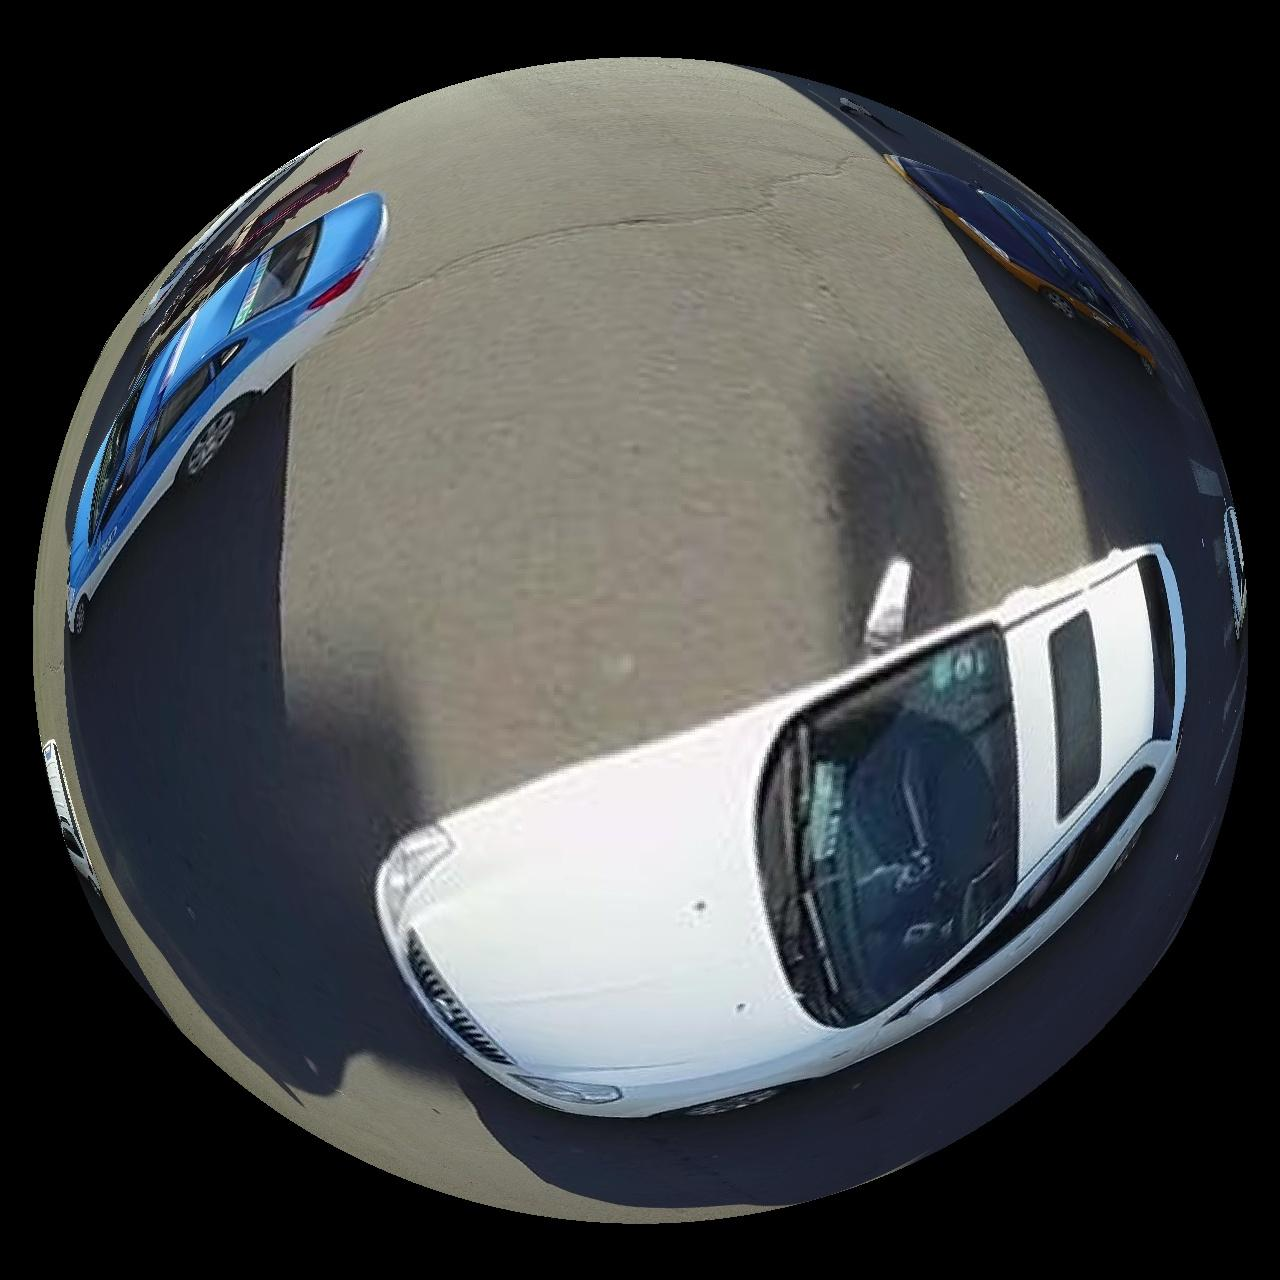cars: (377, 544, 1189, 1118), (64, 192, 384, 633), (886, 154, 1157, 369), (41, 740, 97, 896), (1221, 502, 1250, 640)
